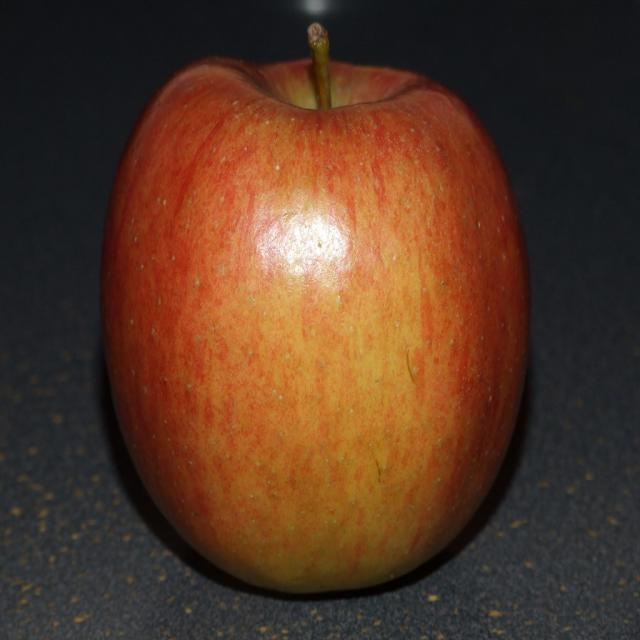Apple: (80, 5, 526, 598)
